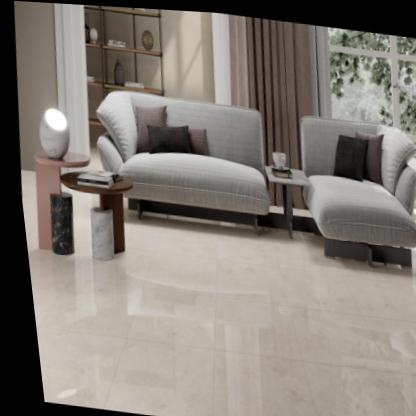Ceramic floor: (28, 225, 416, 416)
Curtains: (228, 12, 320, 167)
Sofa: (84, 86, 272, 238), (288, 109, 416, 268)
